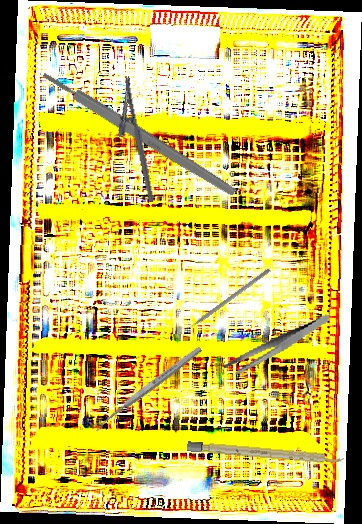Chopper: (177, 262, 272, 336)
Dressing Forceps: (216, 313, 338, 378)
Needle Holder: (107, 75, 155, 206)
Scalpel Handle: (40, 68, 238, 199), (186, 441, 345, 465)
Surgical Spoon: (91, 344, 204, 433)
